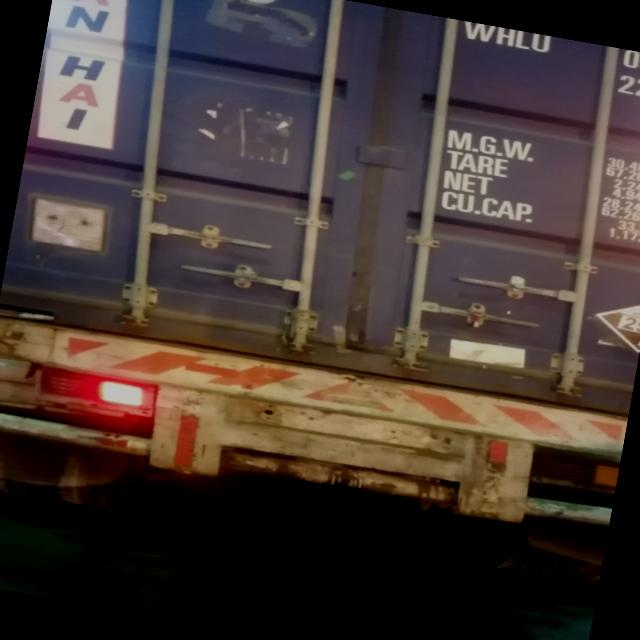seal: (467, 310, 484, 328)
